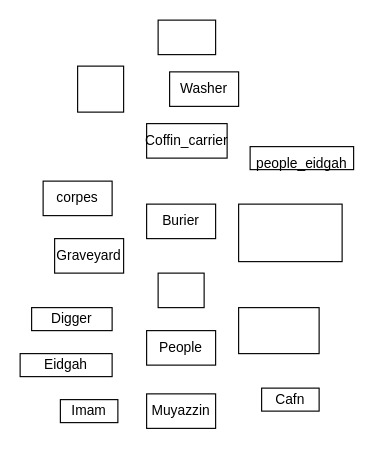
Some shapes in this 374 by 449 pixel diagram are drawn without their labels. Here are the shapes that lost their labels. From the top down, the box of each, then its label:
(157, 19, 216, 55): Coffin
(76, 65, 124, 112): Family
(237, 203, 342, 262): people_muyazzin
(157, 272, 204, 308): Qari
(237, 306, 319, 354): shrouder
